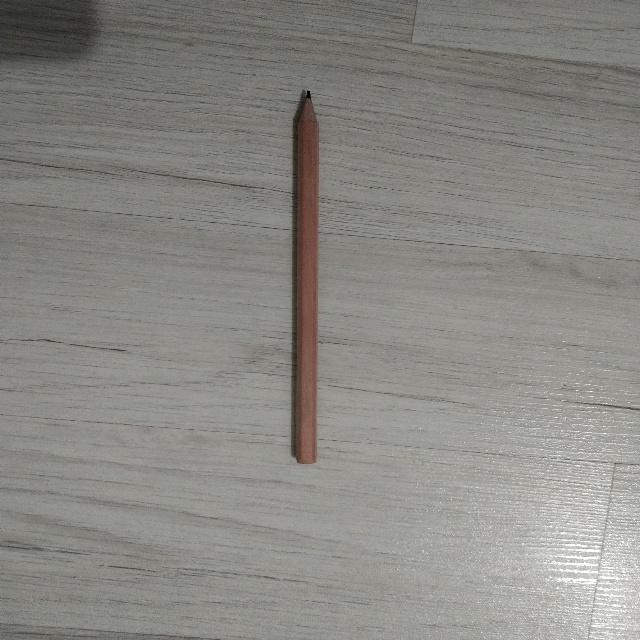pencil: (295, 92, 318, 463)
